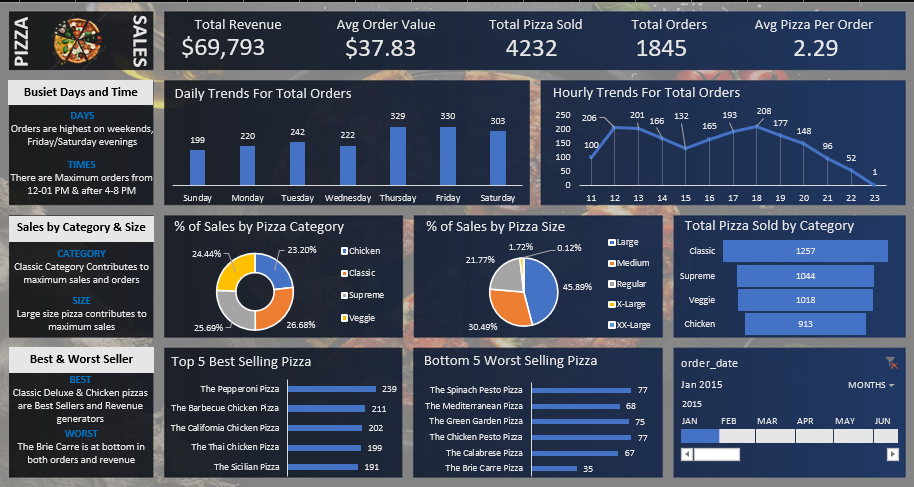

What the dashboard file says about the page in this screenshot:
{"tool":"powerbi","page":{"name":"Home","canvas":[1280,720],"ordinal":0},"visuals":[{"type":"shape","box":[0,0,1280,76.2],"z":0},{"type":"cardVisual","fields":{"Data":["pizza_sales.Total revenue","pizza_sales.Total Orders","pizza_sales.Total pizza sold","pizza_sales.Average Order value","pizza_sales.Average Pizza per Order"]},"box":[202.9,75.7,1077.1,115.7],"z":1000},{"type":"columnChart","title":"Daily Trend For Total Orders","fields":{"Category":["pizza_sales. Day Name"],"Y":["pizza_sales.Total Orders"]},"box":[215.7,192.9,460,290],"z":2000},{"type":"areaChart","title":"Monthly Trend For Total Orders","fields":{"Category":["pizza_sales.MONTH"],"Y":["pizza_sales.Total Orders"]},"box":[690,191.4,578.6,290],"z":3000},{"type":"donutChart","title":"% of Sales by Pizza Category ","fields":{"Category":["pizza_sales.pizza_category"],"Y":["pizza_sales.Total revenue"]},"box":[215.7,493,341.4,227],"z":4000},{"type":"donutChart","title":"% of Sales by Pizza Size","fields":{"Category":["pizza_sales.pizza_size"],"Y":["pizza_sales.Total revenue"]},"box":[570.8,493,340.8,227],"z":5000},{"type":"funnel","title":"Total Pizza Sold by Pizza Category","fields":{"Category":["pizza_sales.pizza_category"],"Y":["pizza_sales.Total pizza sold"]},"box":[927.1,493,341.4,227],"z":6000},{"type":"shape","box":[13.8,85.4,190,634.6],"z":7000},{"type":"textbox","box":[13.6,224.5,190,32.7],"z":8000},{"type":"textbox","box":[13.6,257.3,190,200],"z":9000},{"type":"textbox","box":[13.3,481.1,190,33.3],"z":10000},{"type":"textbox","box":[13.3,514.4,190,193],"z":11000},{"type":"slicer","title":"Pizza Category","fields":{"Values":["pizza_sales.pizza_category"]},"box":[862.2,6.7,194.4,61.1],"z":12000},{"type":"slicer","title":"Pizza Category","fields":{"Values":["pizza_sales.order_date"]},"box":[1056.7,7.8,223.3,68.9],"z":13000},{"type":"textbox","box":[564.1,47.1,151.2,33.5],"z":14000},{"type":"pageNavigator","box":[13.5,111.8,190,42.9],"z":15000},{"type":"pageNavigator","box":[13.6,163.6,190,42.7],"z":16000},{"type":"image","box":[17.5,111.7,36.7,43.3],"z":17000},{"type":"image","box":[17.9,168.6,32.1,32.1],"z":18000},{"type":"image","box":[362.3,0,121.5,75.4],"z":20000}]}

Visuals, with their boxes on the page's 1280x720 design canvas (x1, y1, x2, y2). These are canvas units, not pixel positions in the 914x487 screenshot, which may show the page scaled, cropped or inside an application window:
shape: [x1=0, y1=0, x2=1280, y2=76]
cardVisual - pizza_sales.Total revenue x pizza_sales.Total Orders: [x1=203, y1=76, x2=1280, y2=191]
"Daily Trend For Total Orders" columnChart: [x1=216, y1=193, x2=676, y2=483]
"Monthly Trend For Total Orders" areaChart: [x1=690, y1=191, x2=1269, y2=481]
"% of Sales by Pizza Category " donutChart: [x1=216, y1=493, x2=557, y2=720]
"% of Sales by Pizza Size" donutChart: [x1=571, y1=493, x2=912, y2=720]
"Total Pizza Sold by Pizza Category" funnel: [x1=927, y1=493, x2=1268, y2=720]
shape: [x1=14, y1=85, x2=204, y2=720]
textbox: [x1=14, y1=224, x2=204, y2=257]
textbox: [x1=14, y1=257, x2=204, y2=457]
textbox: [x1=13, y1=481, x2=203, y2=514]
textbox: [x1=13, y1=514, x2=203, y2=707]
"Pizza Category" slicer: [x1=862, y1=7, x2=1057, y2=68]
"Pizza Category" slicer: [x1=1057, y1=8, x2=1280, y2=77]
textbox: [x1=564, y1=47, x2=715, y2=81]
pageNavigator: [x1=14, y1=112, x2=204, y2=155]
pageNavigator: [x1=14, y1=164, x2=204, y2=206]
image: [x1=18, y1=112, x2=54, y2=155]
image: [x1=18, y1=169, x2=50, y2=201]
image: [x1=362, y1=0, x2=484, y2=75]
